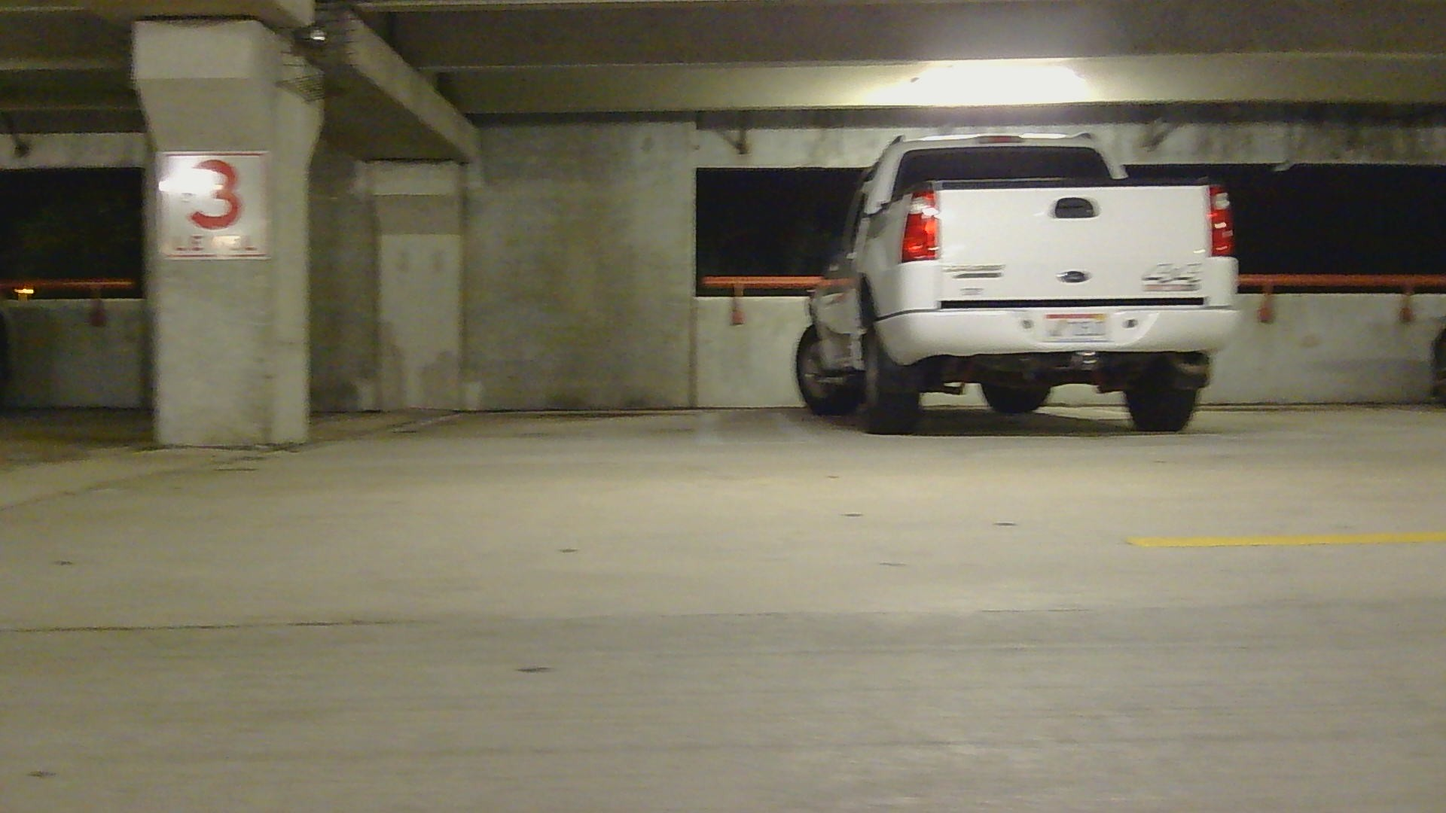empty_spot: (280, 334, 751, 451), (1191, 326, 1446, 481)
occupied_spot: (781, 131, 1250, 445)
